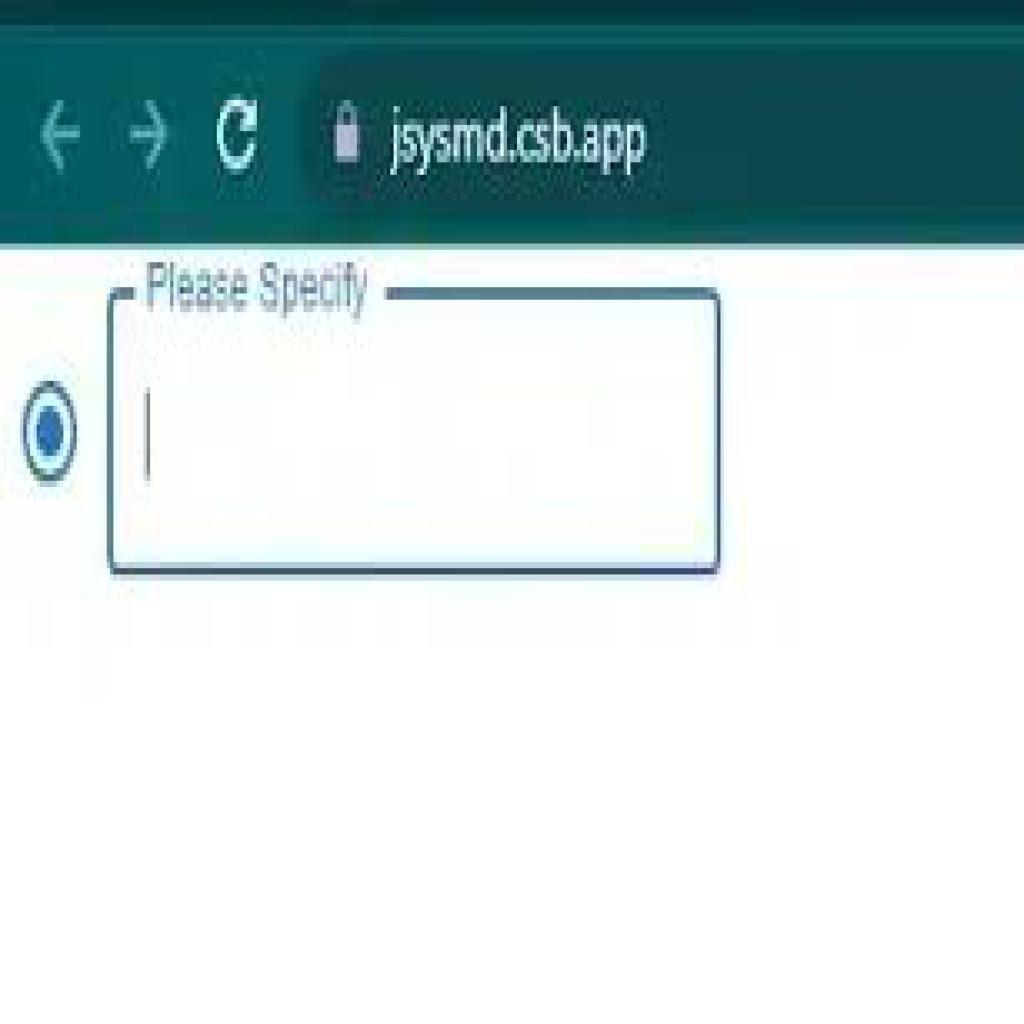radio: (18, 374, 85, 489)
